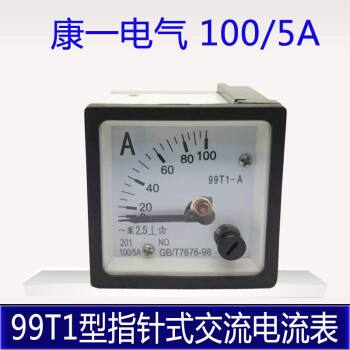pointer: (98, 119, 265, 274)
